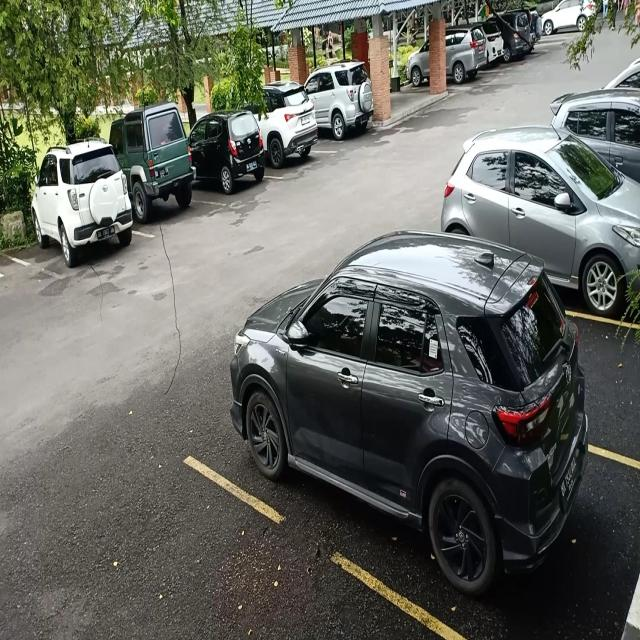occupied: (226, 273, 589, 629), (26, 169, 139, 283), (132, 121, 201, 238), (196, 120, 270, 206), (266, 96, 322, 180)
